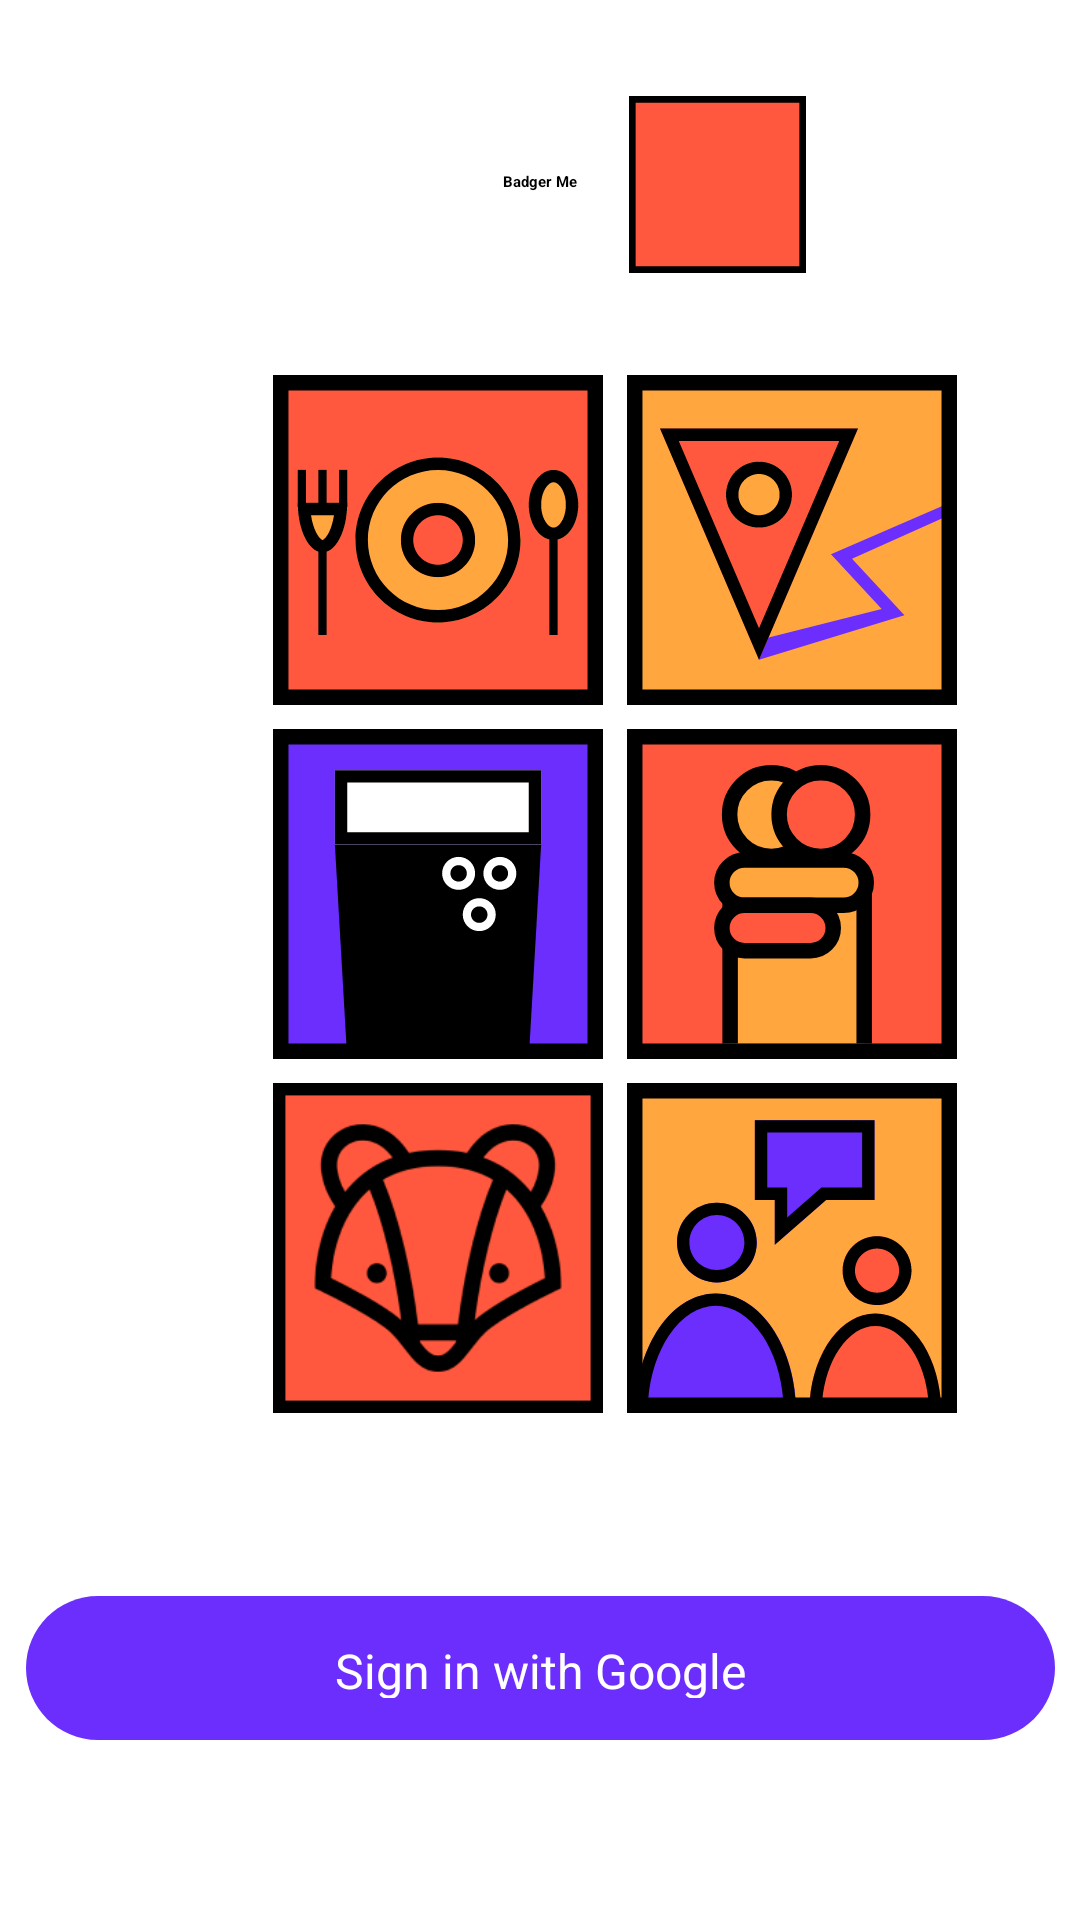

Icon click points for this 1080×1920 phone screenshot, format [x,y]:
Activity chat: [792,1248]
Activity drink: [438,894]
Activity food: [438,540]
Activity hugs: [792,894]
Avatar badger: [438,1248]
